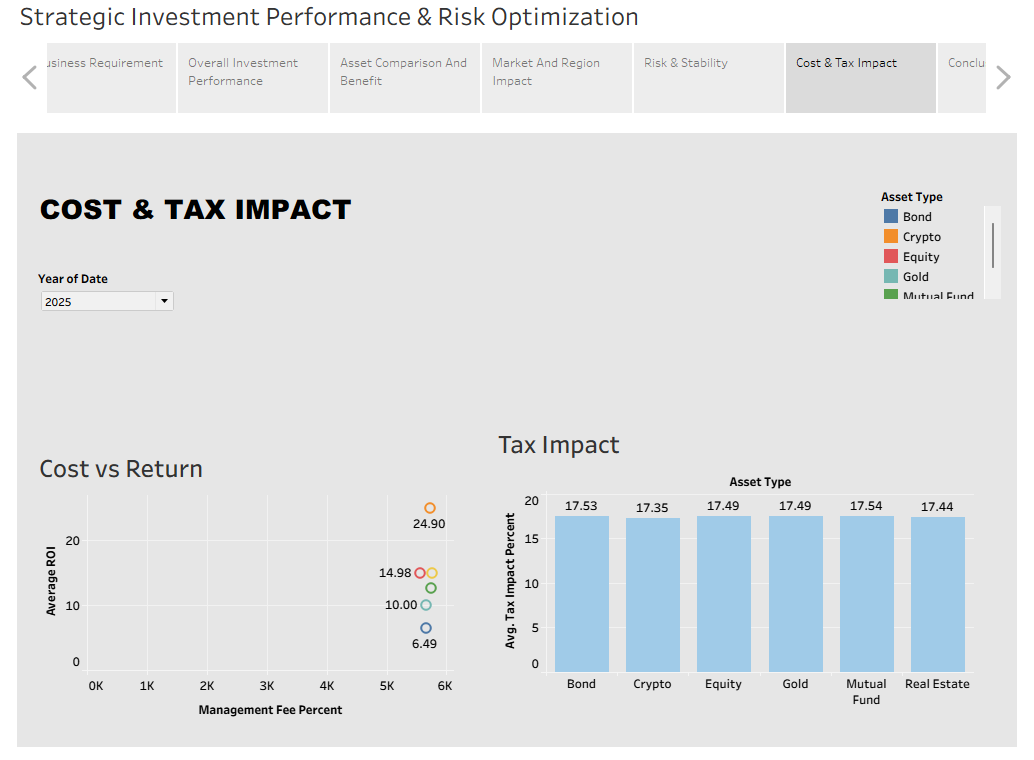

This screenshot's page, from the dashboard's own definition file:
{"tool":"tableau","page":{"name":"COST & TAX IMPACT","canvas":[1000,1000],"units":"permille","ordinal":1},"visuals":[{"type":"text","box":[20,72.4,487.8,102.6]},{"type":"legend","title":"Cost vs Return","param":"[federated.1wwh79u1fpuqpj1ba0z2k0fuhllu].[none:Asset Type:nk]","box":[864.4,89.5,121.7,181.6]},{"type":"filter","title":"Cost vs Return","param":"[federated.1wwh79u1fpuqpj1ba0z2k0fuhllu].[yr:Date:ok]","box":[20.9,222.4,139.1,338.2]},{"type":"worksheet","title":"Tax Impact","mark":"Automatic","rows":["Tax Impact Percent"],"cols":["Asset Type"],"box":[477.4,472.4,480,471.1]},{"type":"worksheet","title":"Cost vs Return","mark":"Automatic","rows":["Calculation_0358462931263490"],"cols":["Management Fee Percent"],"box":[18.3,511.8,419.1,452.6]}]}

Visuals, with their boxes on the dashboard's canvas, which has no fixed pixel size, in thousandths of its width and height (x1, y1, x2, y2). These are canvas units, not pixel positions in the 1034x760 screenshot, which may show the page scaled, cropped or inside an application window:
text: <region>20, 72, 508, 175</region>
"Cost vs Return" legend: <region>864, 90, 986, 271</region>
"Cost vs Return" filter: <region>21, 222, 160, 561</region>
"Tax Impact" worksheet: <region>477, 472, 957, 944</region>
"Cost vs Return" worksheet: <region>18, 512, 437, 964</region>
